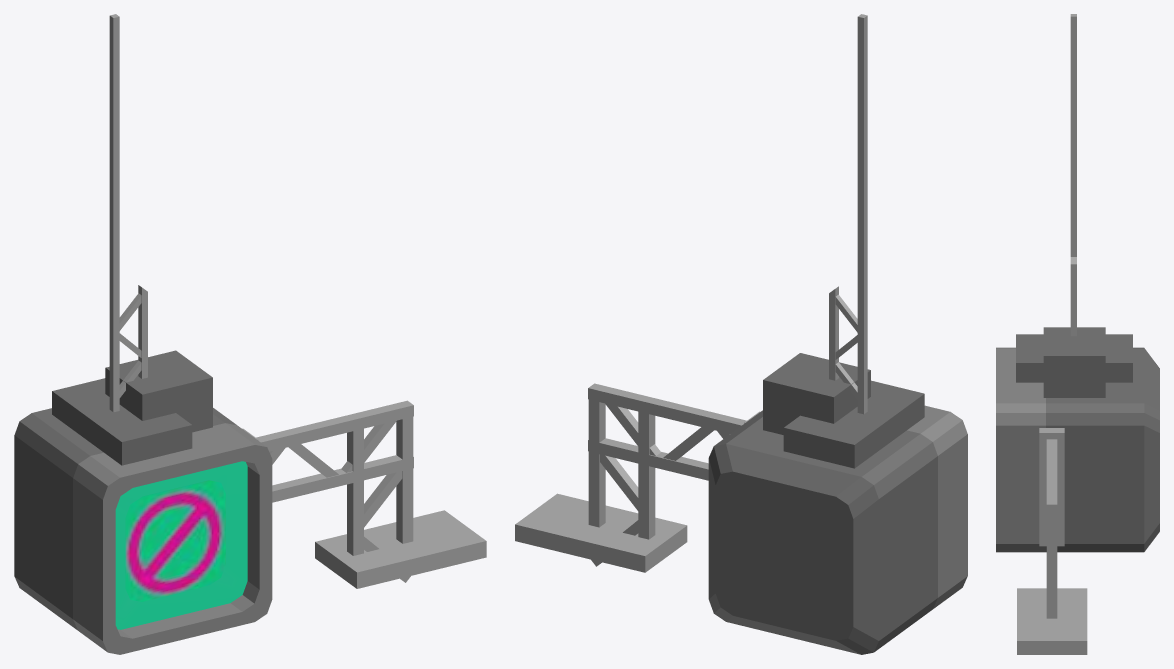
The picture shows the model from 3 angles, left to right: view 1: azimuth 30°, elevation 25°; view 2: azimuth 150°, elevation 25°; view 3: azimuth 270°, elevation 25°; orthographic projection. The views are drawn at different scales.
Visible parts, largest first — view 1: TV_2; view 2: TV_2; view 3: TV_2.
Boxes of the visible parts, box(x1,y1,x2,y2) form: TV_2: box(14, 14, 486, 654); TV_2: box(515, 14, 967, 654); TV_2: box(996, 14, 1159, 654).
Size of the model in its own units: 0.8065 by 1.21 by 0.3448.
4 materials, 1 textured.
